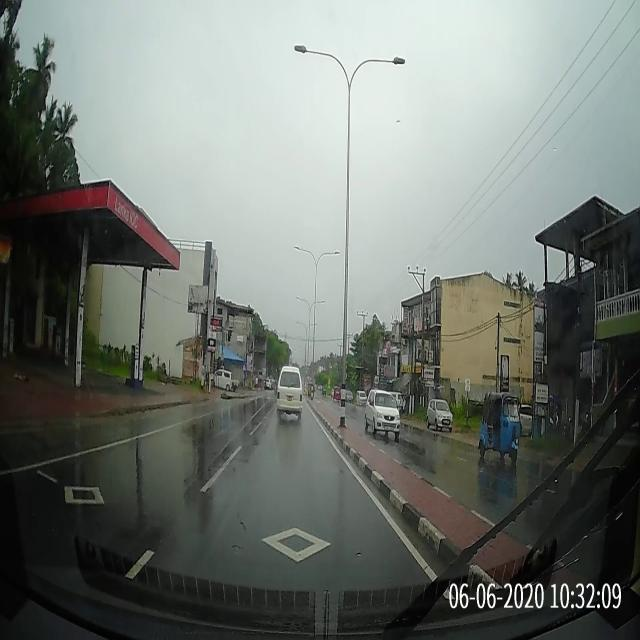diamond: (134, 498, 439, 570)
